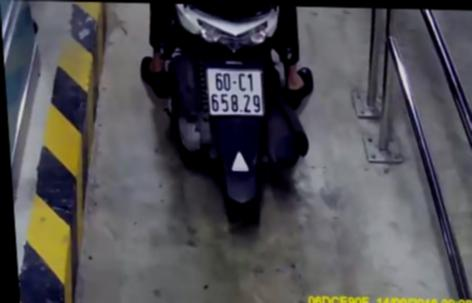License_Plate: (200, 66, 272, 123)
